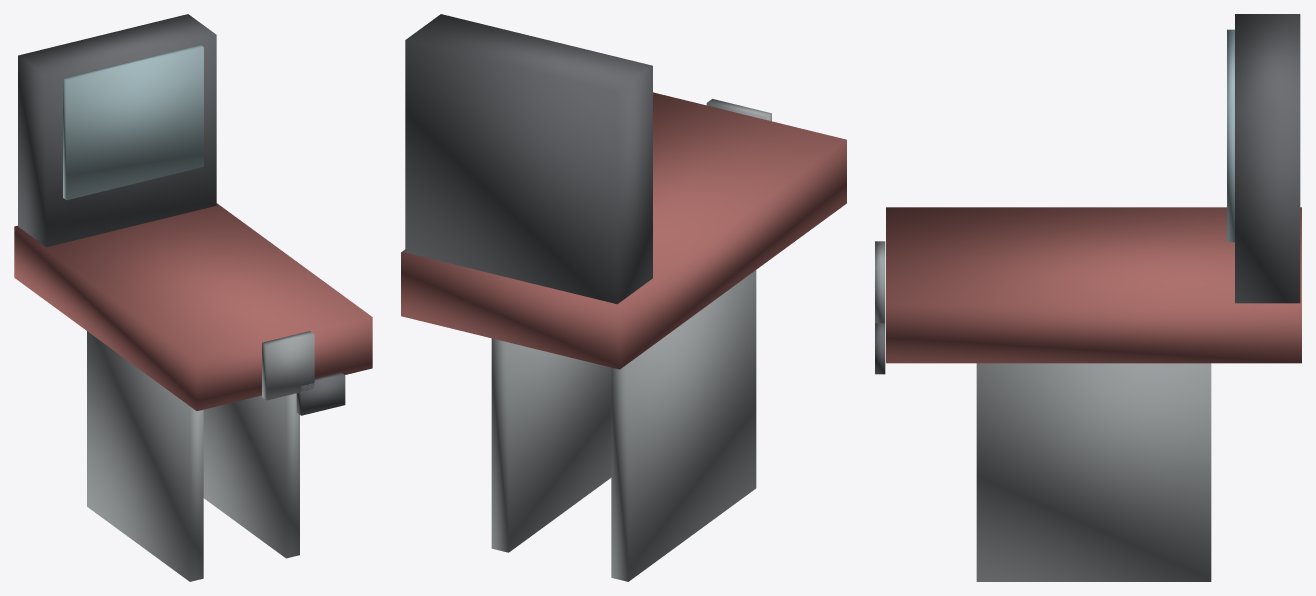
The model's file is pinball_machine__weathered.glb.
The picture shows the model from 3 angles, left to right: view 1: azimuth 30°, elevation 25°; view 2: azimuth 150°, elevation 25°; view 3: azimuth 270°, elevation 25°; orthographic projection. The views are drawn at different scales.
Visible parts, largest first — view 1: world; view 2: world; view 3: world.
Boxes of the visible parts, <box> form: world: <box>14,14,372,581</box>; world: <box>401,14,846,581</box>; world: <box>875,14,1301,581</box>.
Size of the model in its own units: 0.64 by 1.49 by 1.18.
